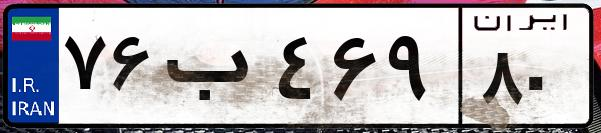0: (525, 38, 570, 115)
4: (270, 28, 330, 110)
6: (330, 28, 385, 110), (110, 28, 158, 98)
7: (57, 26, 110, 100)
8: (475, 38, 525, 113)
9: (385, 28, 445, 110)
ب: (158, 20, 270, 120)
